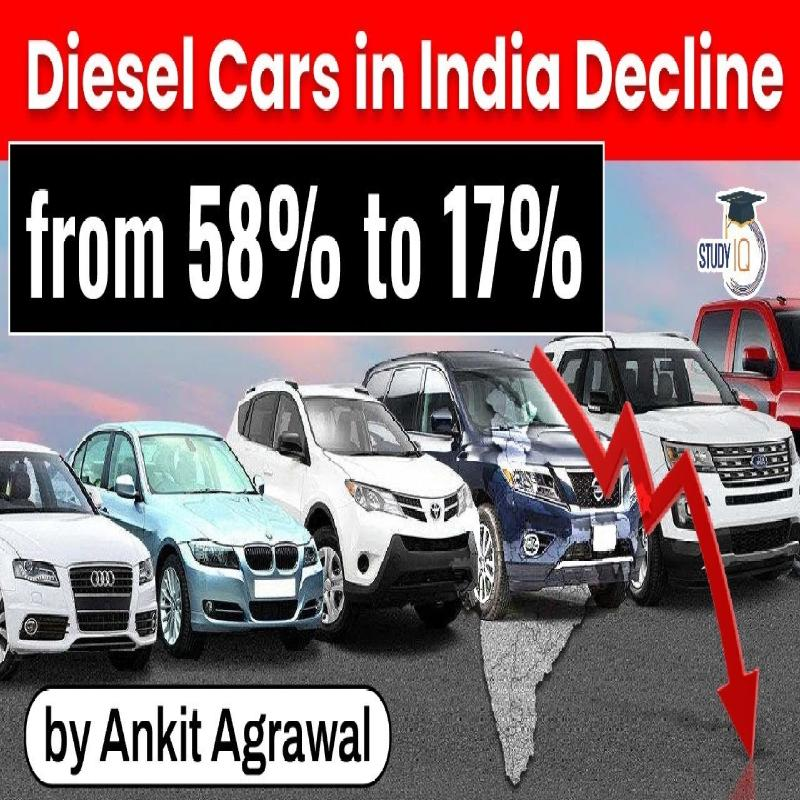car: (88, 403, 370, 630), (246, 370, 488, 625)
